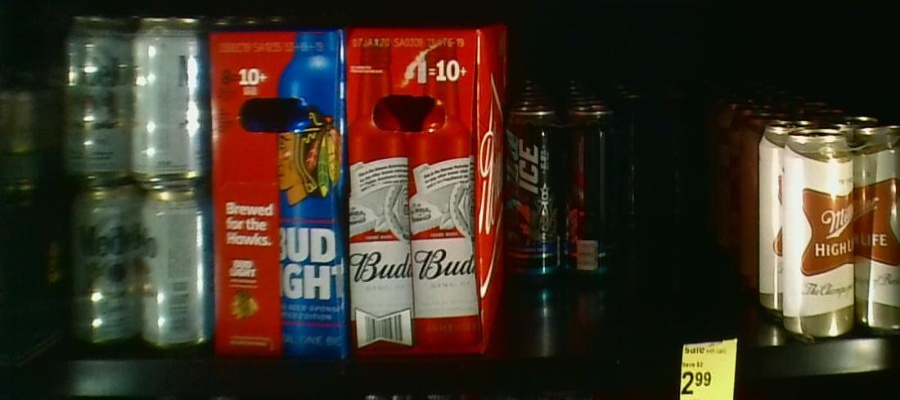bottle: (344, 25, 501, 351), (64, 13, 214, 349), (213, 25, 345, 359), (784, 127, 900, 334), (509, 109, 613, 274), (613, 96, 699, 239)
